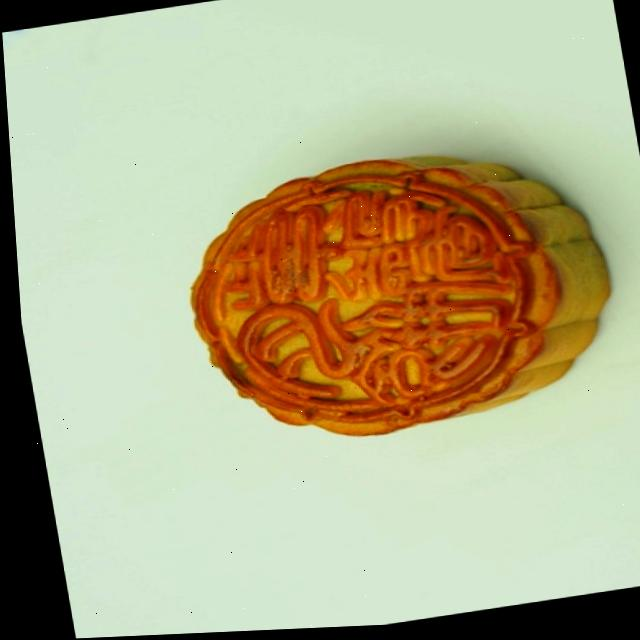蛋糕甜品: (140, 123, 613, 468)
